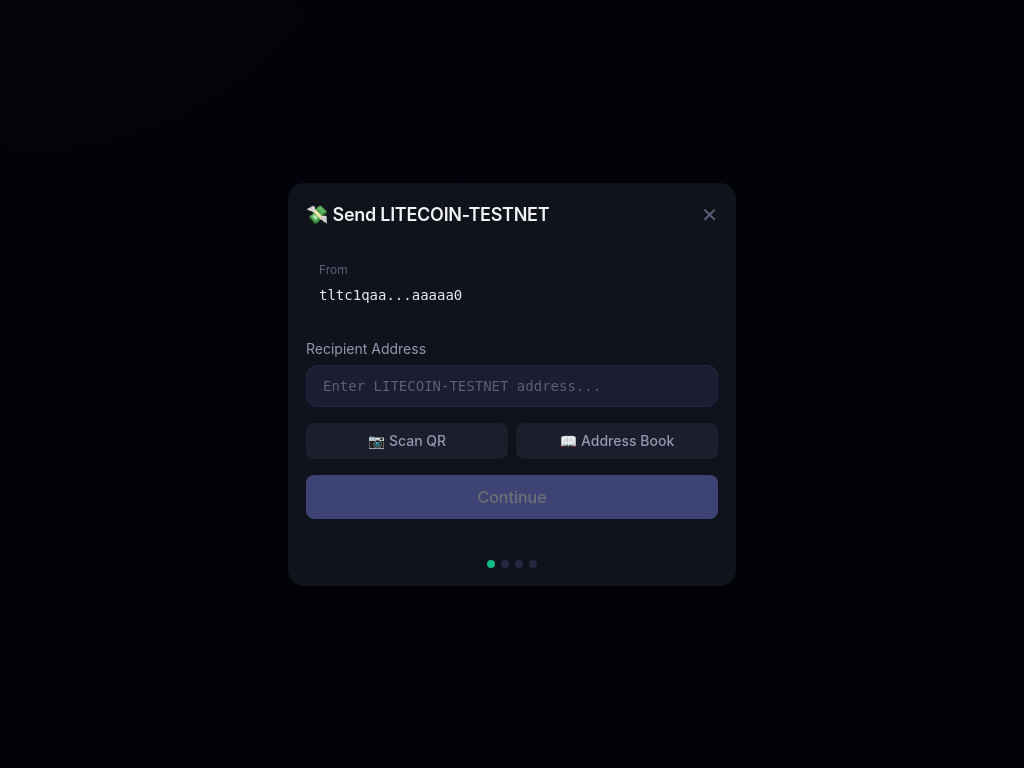
Test: Send.svelte › shows error for negative amount in handleAmountInput
The width and height of the screenshot is (1024, 768).
Type "tltc1qvalidadr" into the field with placeholder "Enter LITECOIN-TESTNET address..." at (512, 386), box [306, 364, 718, 406]
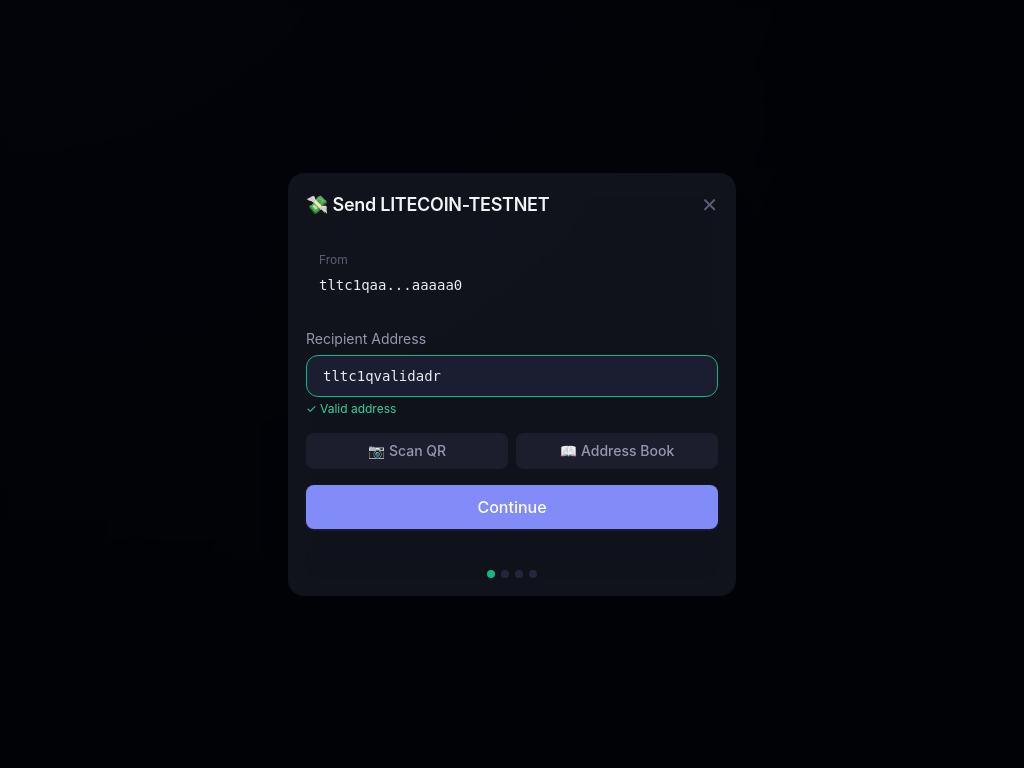
Click the button "Continue" at (512, 506), box [306, 484, 718, 528]
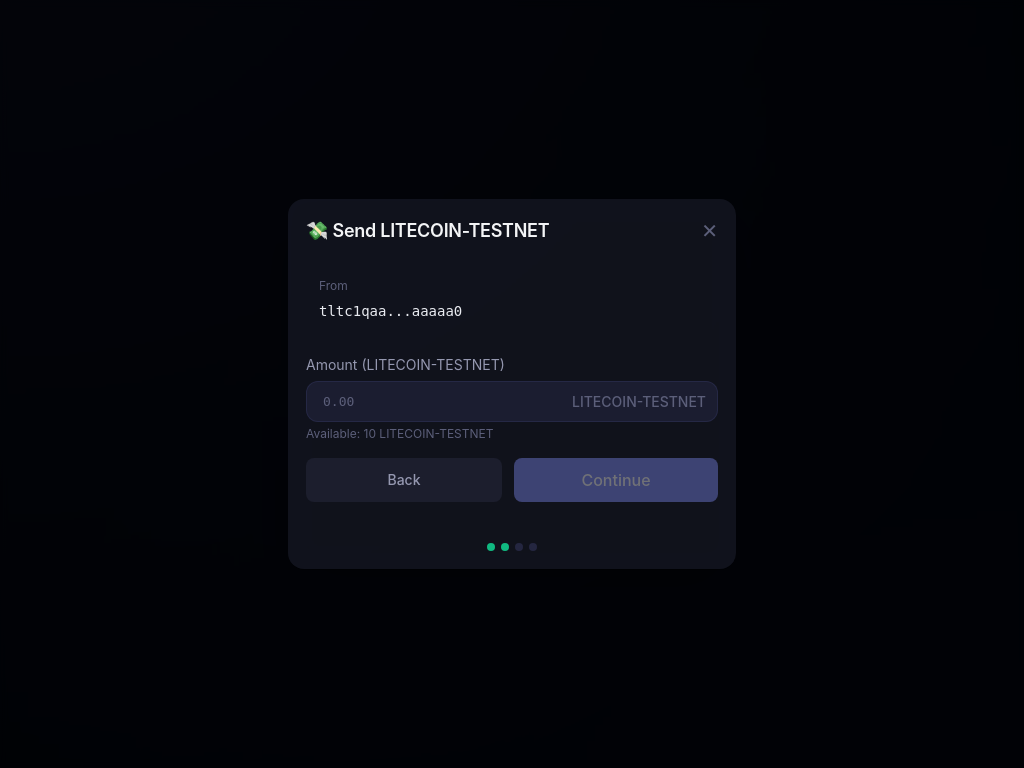
Type "-5" into the number field with placeholder "0.00" at (512, 402), box [306, 381, 718, 422]
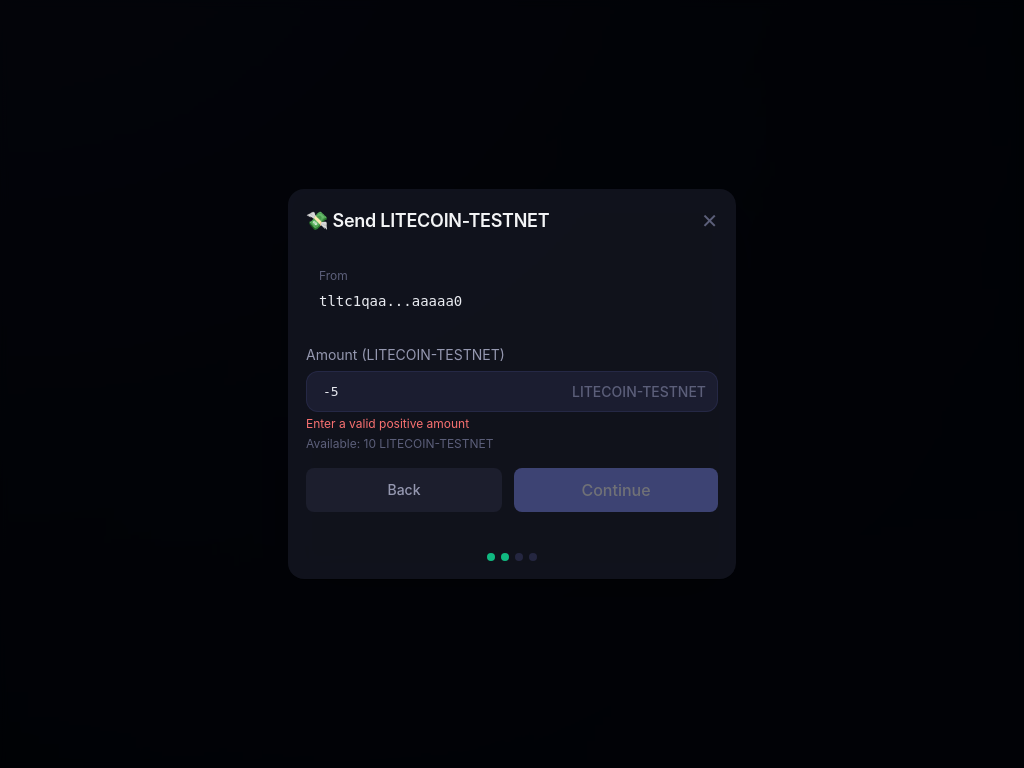
Expected: the text "Enter a valid positive amount" is shown, [306, 416, 469, 431]
